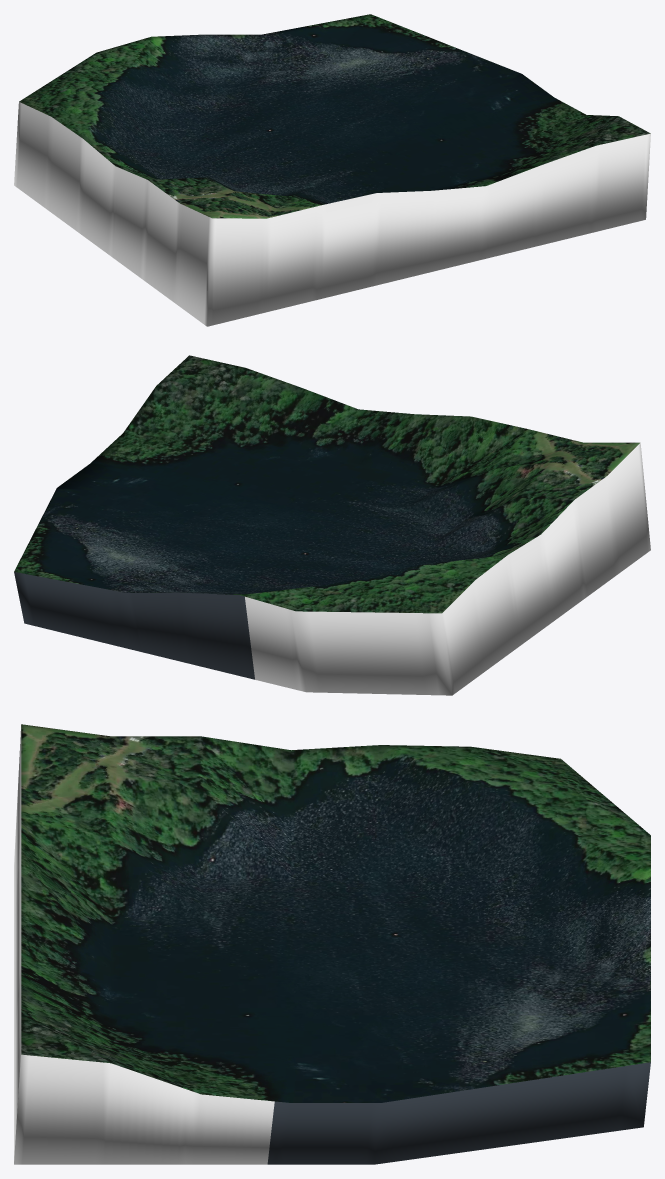
The model's file is LagunaFixed2.fbx.
3 views of the same model, one above another, from view 1: azimuth 30°, elevation 25°; view 2: azimuth 150°, elevation 25°; view 3: azimuth 270°, elevation 25° (orthographic). The views are drawn at different scales.
Parts seen in each view (by area): view 1: TerrainNode; view 2: TerrainNode; view 3: TerrainNode.
Boxes of the visible parts, bbox=[...] form: TerrainNode: bbox=[14, 14, 650, 326]; TerrainNode: bbox=[14, 355, 650, 695]; TerrainNode: bbox=[14, 724, 650, 1164].
Bounding box in the file's own units: 7548 × 1693 × 6676.
3 materials, 1 textured.
